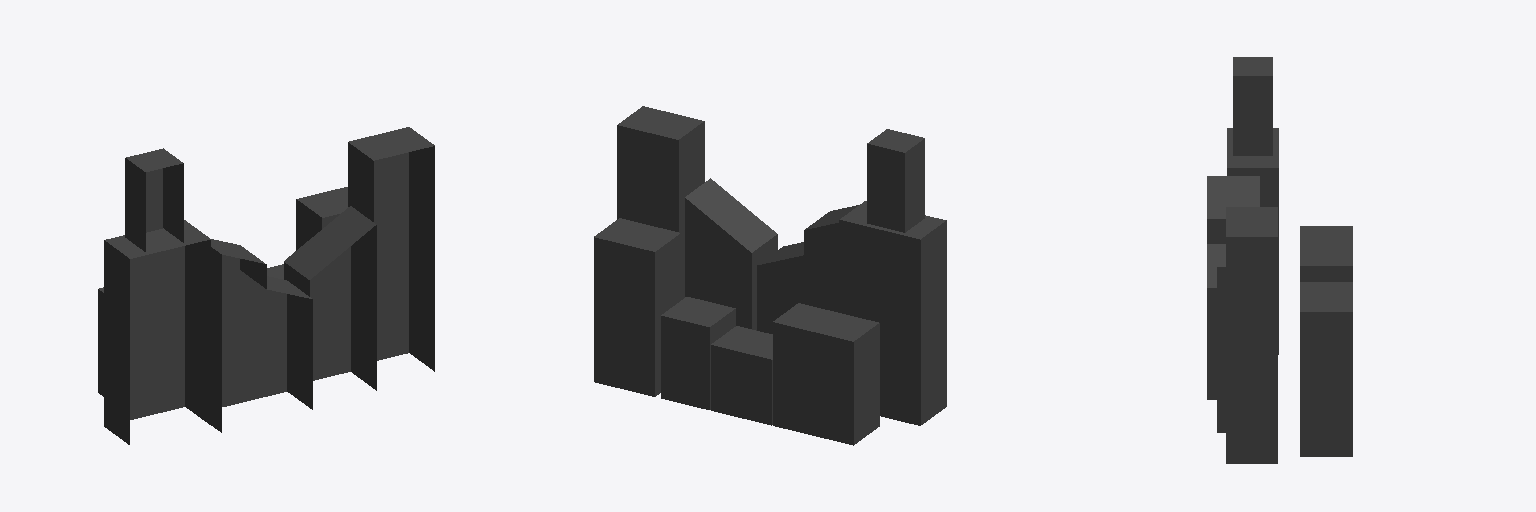
Rendered from cityLine.obj.
3 renders of one model, left to right at view 1: azimuth 30°, elevation 25°; view 2: azimuth 150°, elevation 25°; view 3: azimuth 270°, elevation 25°, orthographic.
Visible parts, largest first — view 1: cityLine_cityLine_initialShadingGroup.001; view 2: cityLine_cityLine_initialShadingGroup.001; view 3: cityLine_cityLine_initialShadingGroup.001.
Boxes of the visible parts, x1,y1,x2,y2 form: cityLine_cityLine_initialShadingGroup.001: [98, 127, 434, 444]; cityLine_cityLine_initialShadingGroup.001: [594, 106, 946, 445]; cityLine_cityLine_initialShadingGroup.001: [1207, 57, 1352, 463].
Size of the model in its own units: 351 by 294 by 145.